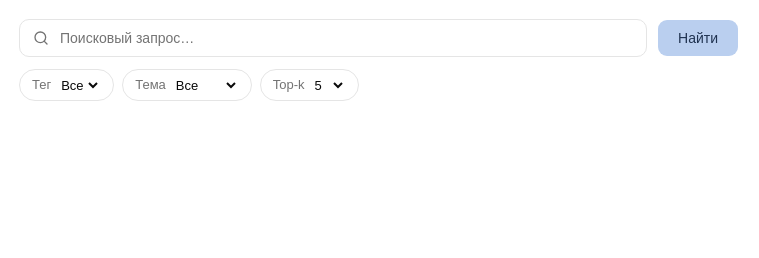
Test: возврат фокуса в окно не перезапрашивает поиск (не спамит searches)
In the field with placeholder "Поисковый запрос…": (333, 38) [19,19,647,57], type "data vault"
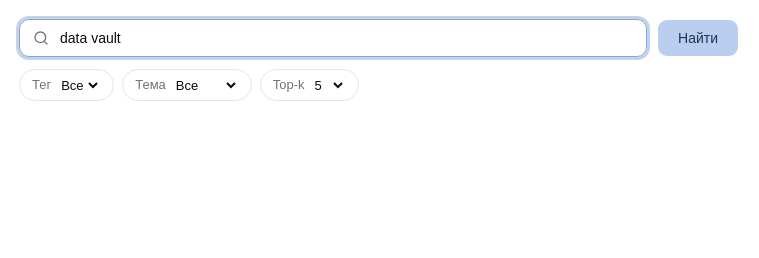
Click the button "Найти": (698, 38) [657,19,739,57]
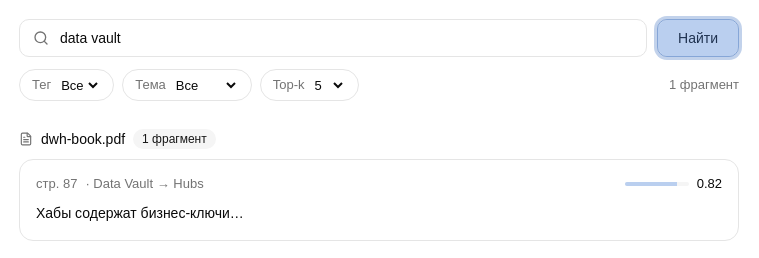
Check: the text "Хабы содержат бизнес-ключи…" is shown, box [36,204,244,220]
